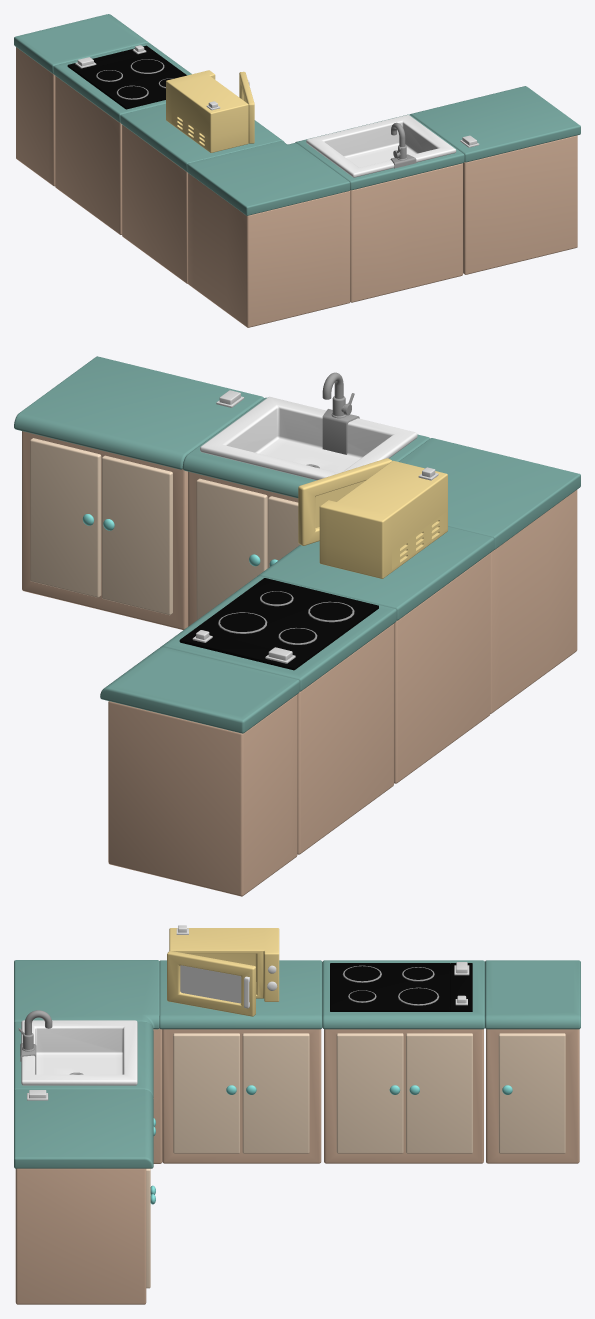
Rendered from poziomy.fbx.
3 renders of one model, top to bottom at view 1: azimuth 30°, elevation 25°; view 2: azimuth 150°, elevation 25°; view 3: azimuth 270°, elevation 25°, orthographic. The views are drawn at different scales.
Parts seen in each view (by area): view 1: Cube.010, Cube.026, Cube.005, Cube.012, Cube.011, Cube.001, Cube.027, Cube, Cube.008, Cube.016, Cube.017, Cube.003 (+6 smaller); view 2: Cube.016, Cube.028, Cube.012, Cube.001, Cube.027, Cube.010, Cube, Cube.017, Cube.011, Cube.008, Cube.007, Cube.003 (+11 smaller); view 3: Cube.026, Cube.014, Cube.004, Cube.027, Cube.011, Cube.018, Cube.008, Cube.017, Cube.003, Cube.001, Cube.012, Cube.016 (+12 smaller).
Part boxes in pixels (x1,y1,x2,y2): Cube.010: (188,173,350,327); Cube.026: (463,135,577,274); Cube.005: (350,163,462,302); Cube.012: (55,76,121,234); Cube.011: (187,141,349,215); Cube.001: (122,125,187,283); Cube.027: (410,86,580,162); Cube: (166,70,248,152); Cube.008: (306,115,456,177); Cube.016: (16,47,55,186); Cube.017: (14,14,149,73); Cube.003: (120,104,284,171); Cube.016: (108,694,297,896); Cube.028: (30,438,172,615); Cube.012: (297,624,393,854); Cube.001: (394,553,490,783); Cube.027: (14,356,263,469); Cube.010: (490,490,577,713); Cube: (319,460,447,578); Cube.017: (100,647,299,733); Cube.011: (399,438,580,549); Cube.008: (200,396,417,480); Cube.007: (196,478,299,619); Cube.003: (257,526,494,620); Cube.026: (15,1168,146,1304); Cube.014: (336,1033,472,1153); Cube.004: (173,1033,309,1153); Cube.027: (14,1089,153,1168); Cube.011: (14,960,159,1029); Cube.018: (498,1033,565,1153); Cube.008: (21,1020,137,1085); Cube.017: (485,960,580,1029); Cube.003: (159,960,322,1029); Cube.001: (162,1029,321,1163); Cube.012: (324,1029,483,1163); Cube.016: (486,1029,579,1163).
Size of the model in its own units: 2107 by 1745 by 833.
